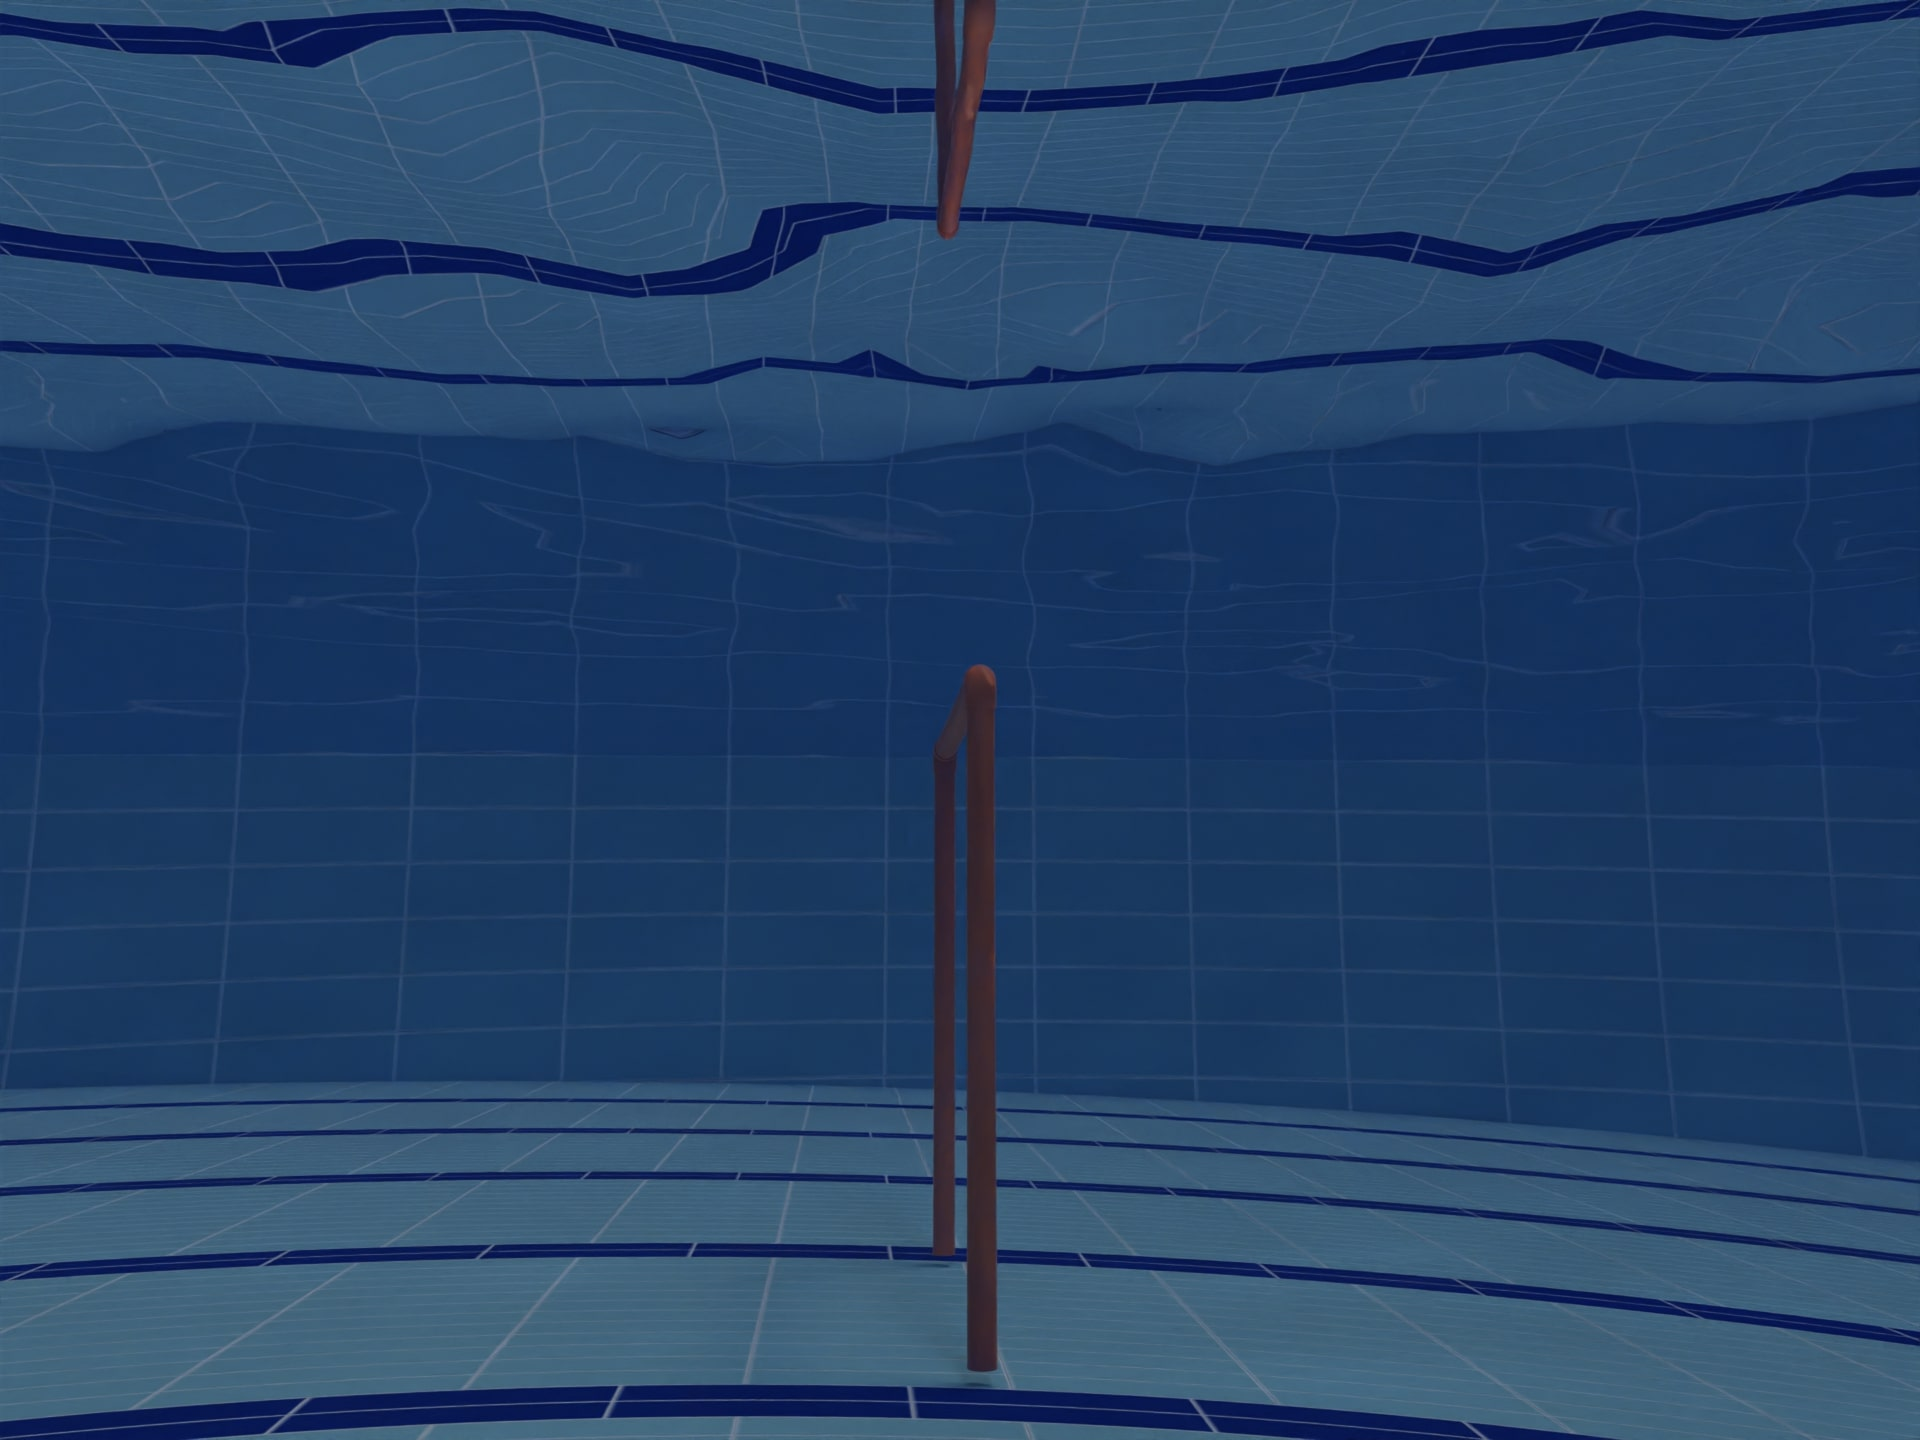gate: (868, 611, 1129, 1435)
